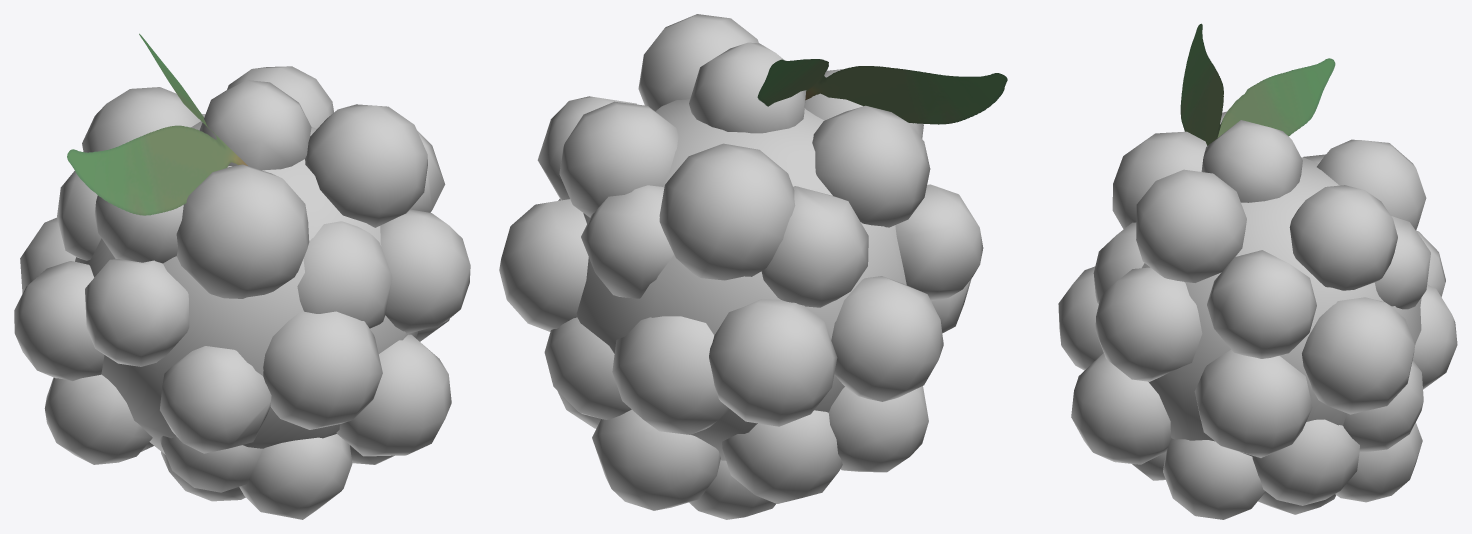
The model's file is Fruit_03.fbx.
3 views of the same model, side by side, from view 1: azimuth 30°, elevation 25°; view 2: azimuth 150°, elevation 25°; view 3: azimuth 270°, elevation 25° (orthographic). The views are drawn at different scales.
Parts seen in each view (by area): view 1: Fruit_03; view 2: Fruit_03; view 3: Fruit_03.
Boxes of the visible parts, bbox=[...] form: Fruit_03: bbox=[14, 33, 470, 519]; Fruit_03: bbox=[499, 14, 1007, 519]; Fruit_03: bbox=[1058, 23, 1457, 519].
Size of the model in its own units: 26.32 by 27.36 by 22.94.
